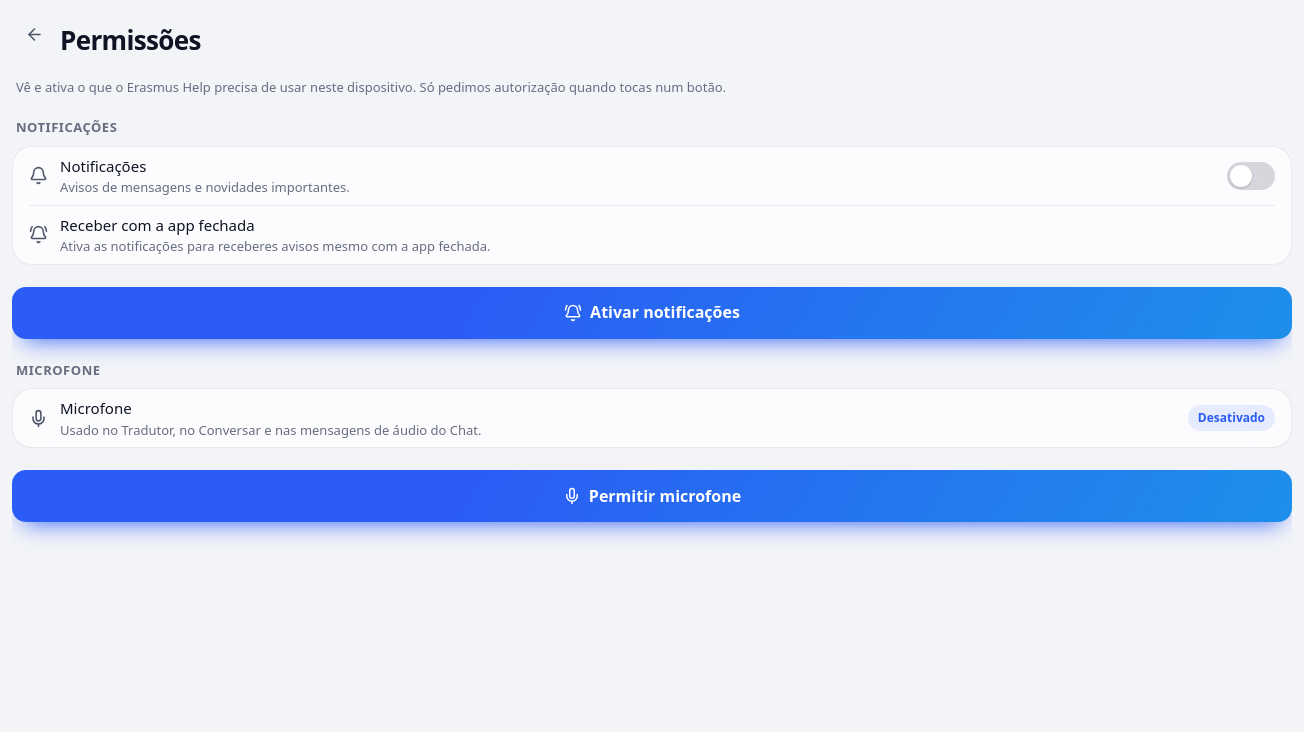
it: PermissionsPage › asks the browser for notifications only when the button is tapped
Click the button "Ativar notificações" at (652, 313), box 12,287 -> 1292,339
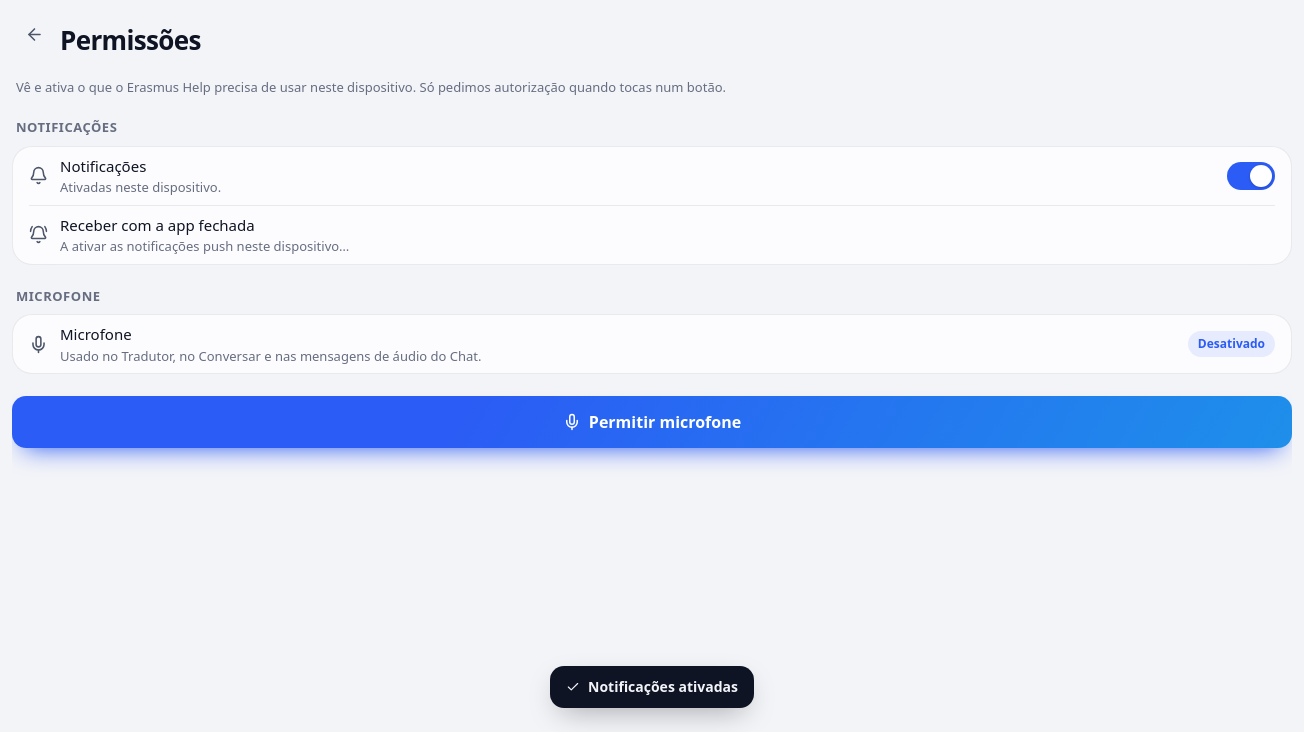
Expected: the button "Ativar notificações" is gone
